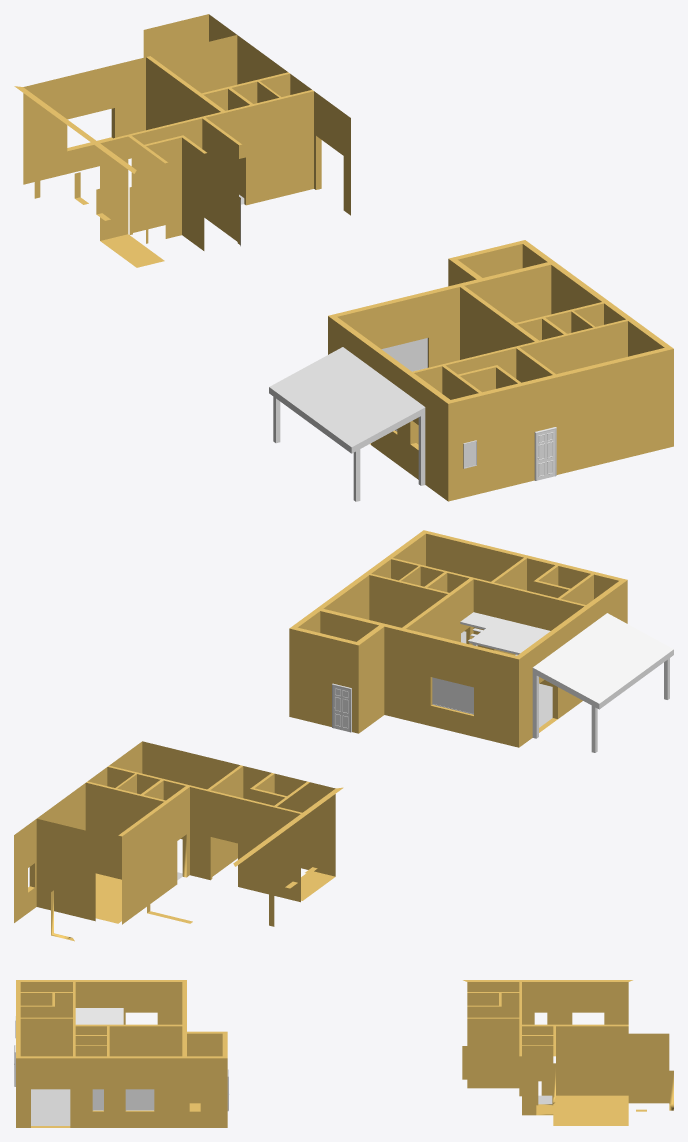
Rendered from solo interno.glb.
The picture shows the model from 3 angles, top to bottom: view 1: azimuth 30°, elevation 25°; view 2: azimuth 150°, elevation 25°; view 3: azimuth 270°, elevation 25°; orthographic projection. The views are drawn at different scales.
Visible parts, largest first — view 1: solo interno-Mat.3, solo interno; view 2: solo interno-Mat.3, solo interno, solo interno-Mat.4; view 3: solo interno-Mat.3, solo interno, solo interno-Mat.4.
Boxes of the visible parts, <box> form: solo interno-Mat.3: <box>14,14,673,501</box>; solo interno: <box>240,199,556,501</box>; solo interno-Mat.3: <box>14,530,627,941</box>; solo interno: <box>332,612,673,752</box>; solo interno-Mat.4: <box>177,631,552,880</box>; solo interno-Mat.3: <box>16,980,673,1127</box>; solo interno: <box>14,1008,229,1111</box>; solo interno-Mat.4: <box>31,1089,552,1125</box>.
Bounding box in the file's own units: 1380 × 430 × 3702.
